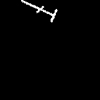double_crochet: (21, 0, 56, 21)
